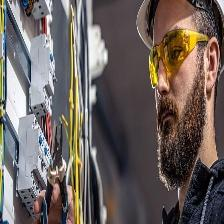Person: (135, 1, 221, 223)
helmet: (135, 1, 223, 53)
no-vest: (179, 160, 224, 224)
